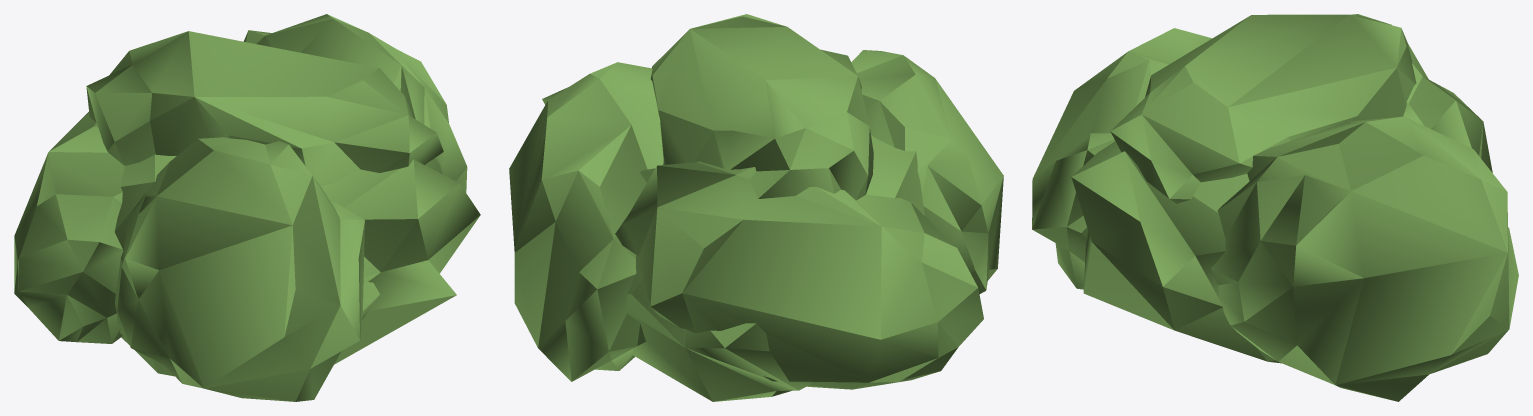
The model's file is bush_2.fbx.
The picture shows the model from 3 angles, left to right: view 1: azimuth 30°, elevation 25°; view 2: azimuth 150°, elevation 25°; view 3: azimuth 270°, elevation 25°; orthographic projection. The views are drawn at different scales.
Parts seen in each view (by area): view 1: polySurface7; view 2: polySurface7; view 3: polySurface7.
Part boxes in pixels (x1,y1,x2,y2): polySurface7: [14, 14, 480, 401]; polySurface7: [509, 14, 1003, 401]; polySurface7: [1032, 14, 1518, 401].
Size of the model in its own units: 66.04 by 44.01 by 62.79.
